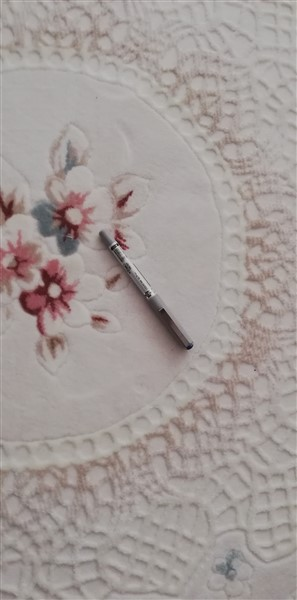pilot kalem: (96, 227, 199, 354)
